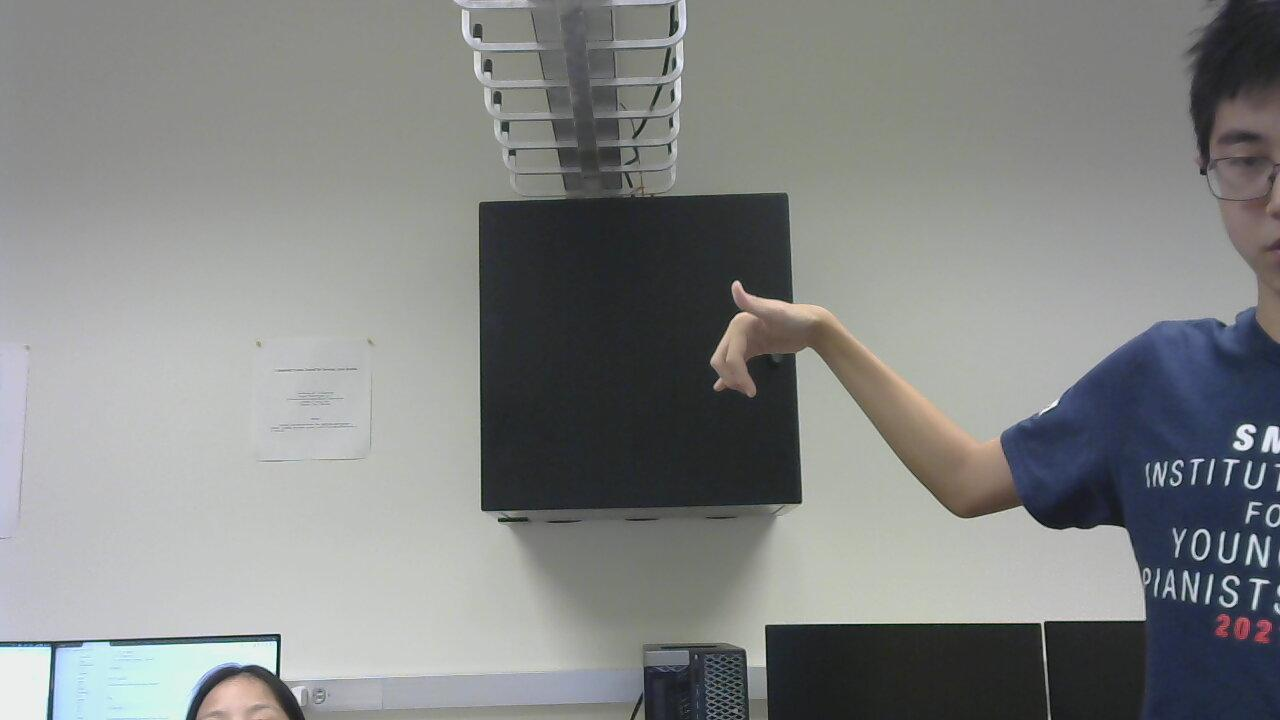hands: (705, 274, 834, 404)
